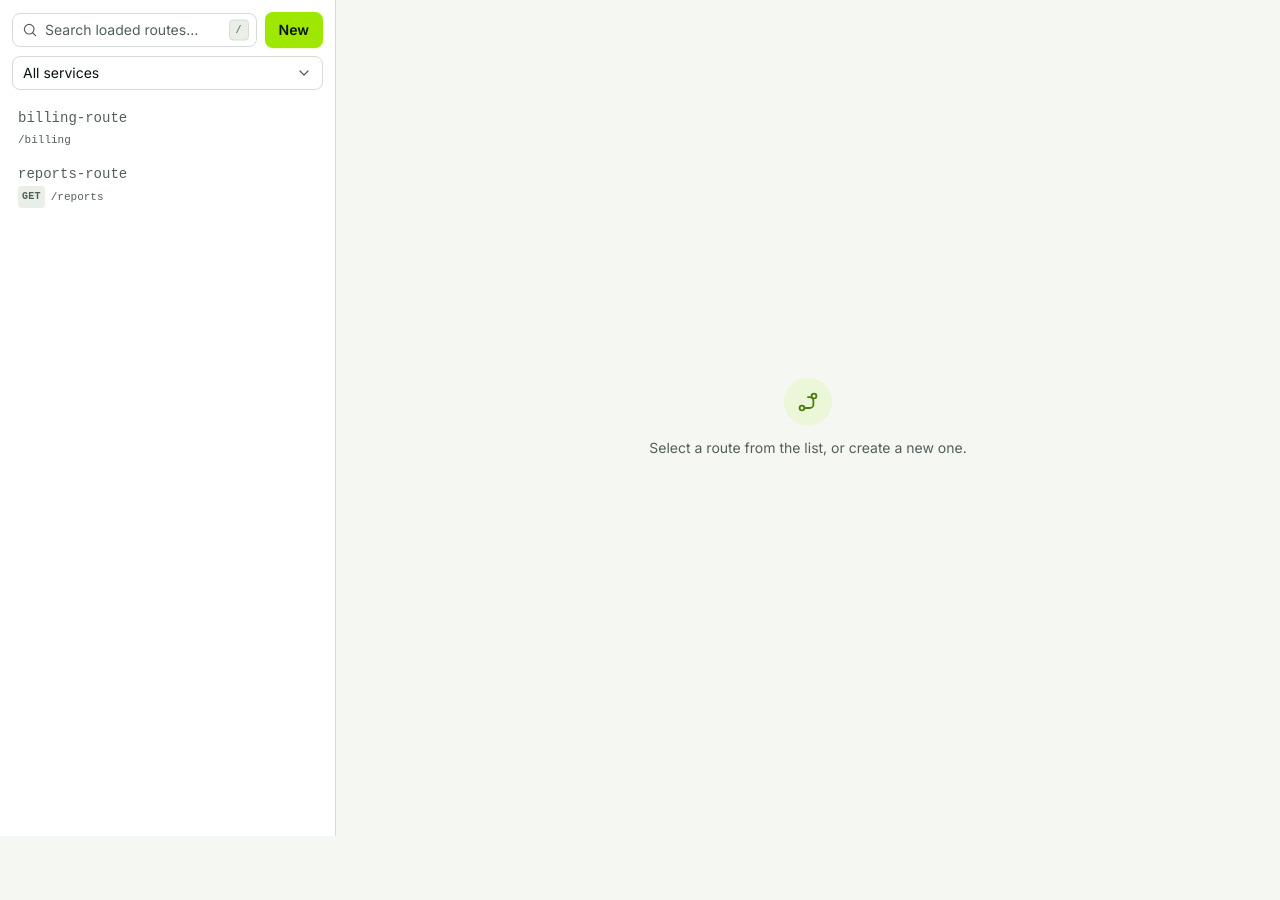
Test: LiveRoutesView › blocks Save with the Primate message when no protocol is selected
This screenshot has width=1280, height=900.
Click the button "New": [294, 30] box [264,12,323,48]
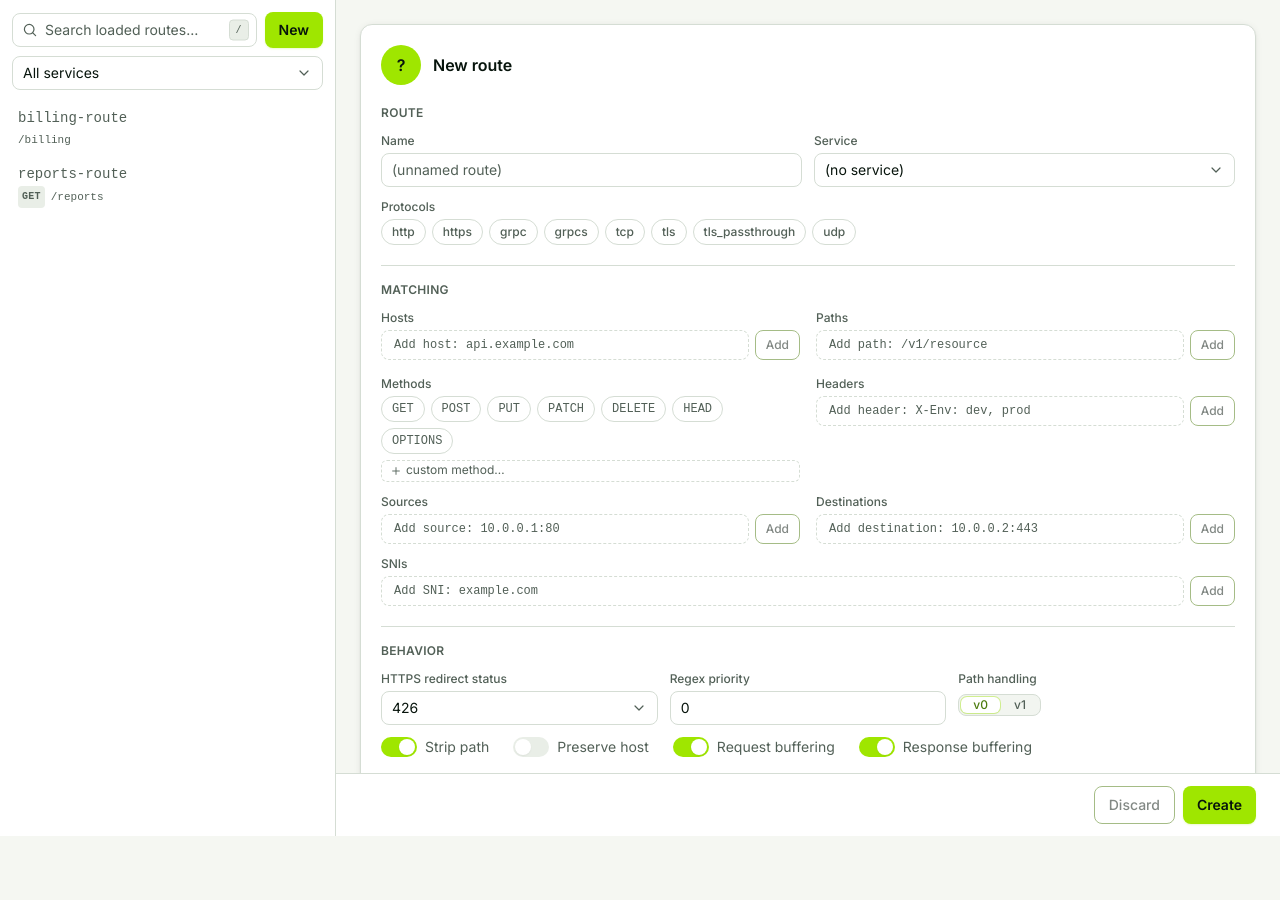
Click the button "Create": [1219, 805] box [1183,786,1256,824]
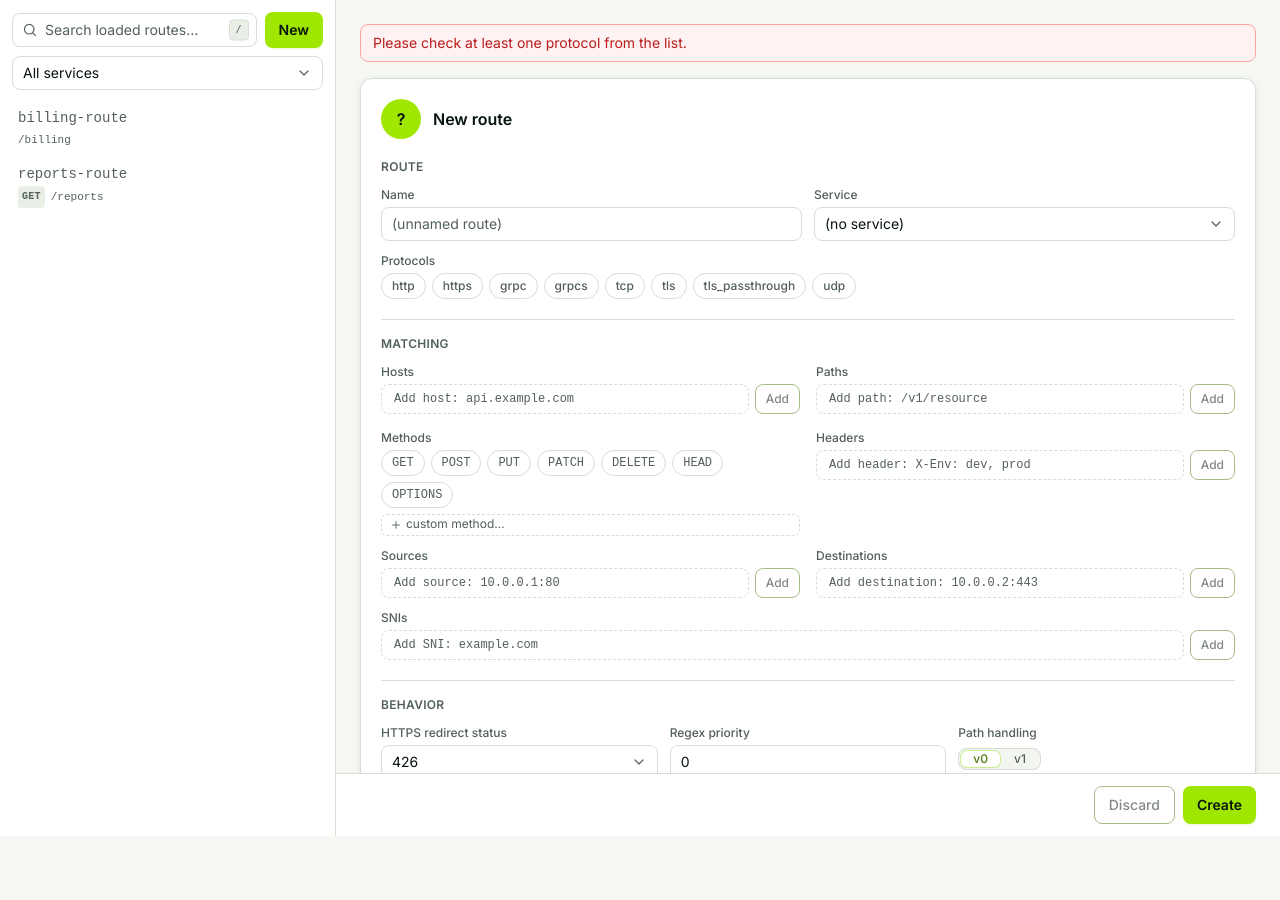
Expected: the message "Please check at least one protocol from the list." is shown, [360,24,1256,62]
